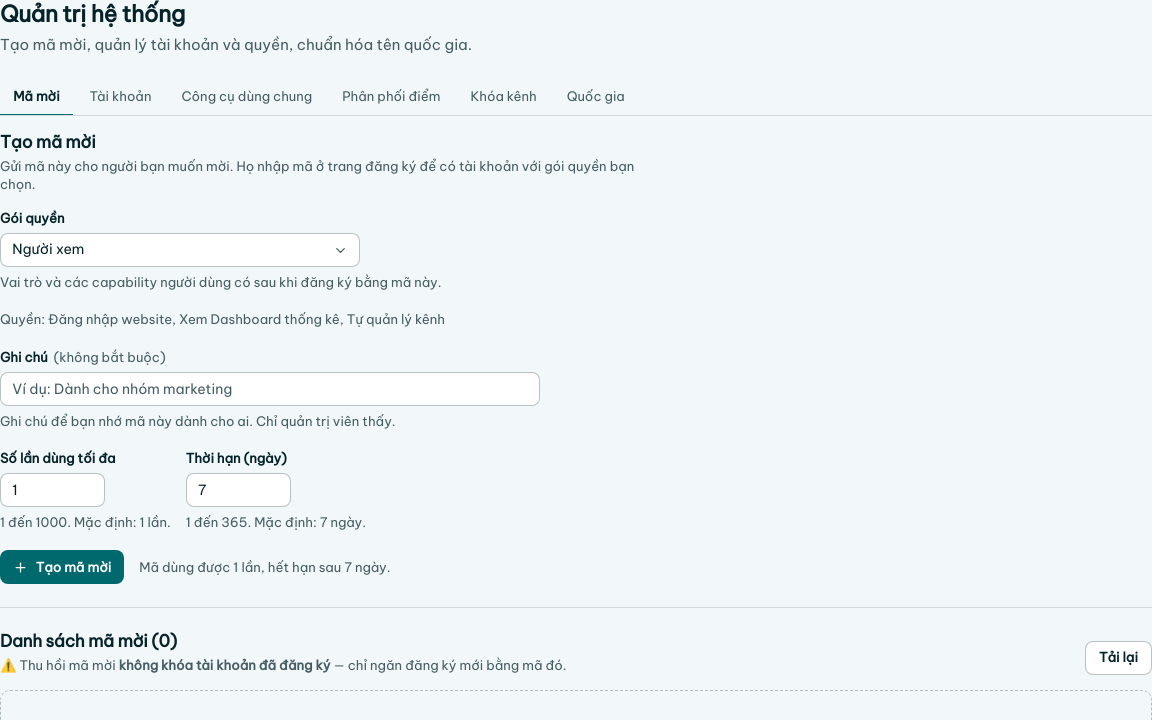
it: AdminPage — xác nhận trước khi khóa/xóa › khóa: hộp xác nhận nêu hậu quả; Hủy thì không gọi API; Xác nhận thì PATCH
The width and height of the screenshot is (1152, 720).
What coordinates should you click on to do the following:
click the tab "Tài khoản"
I would click on:
 (120, 97)
Its box is x1=76 y1=78 x2=164 y2=116.
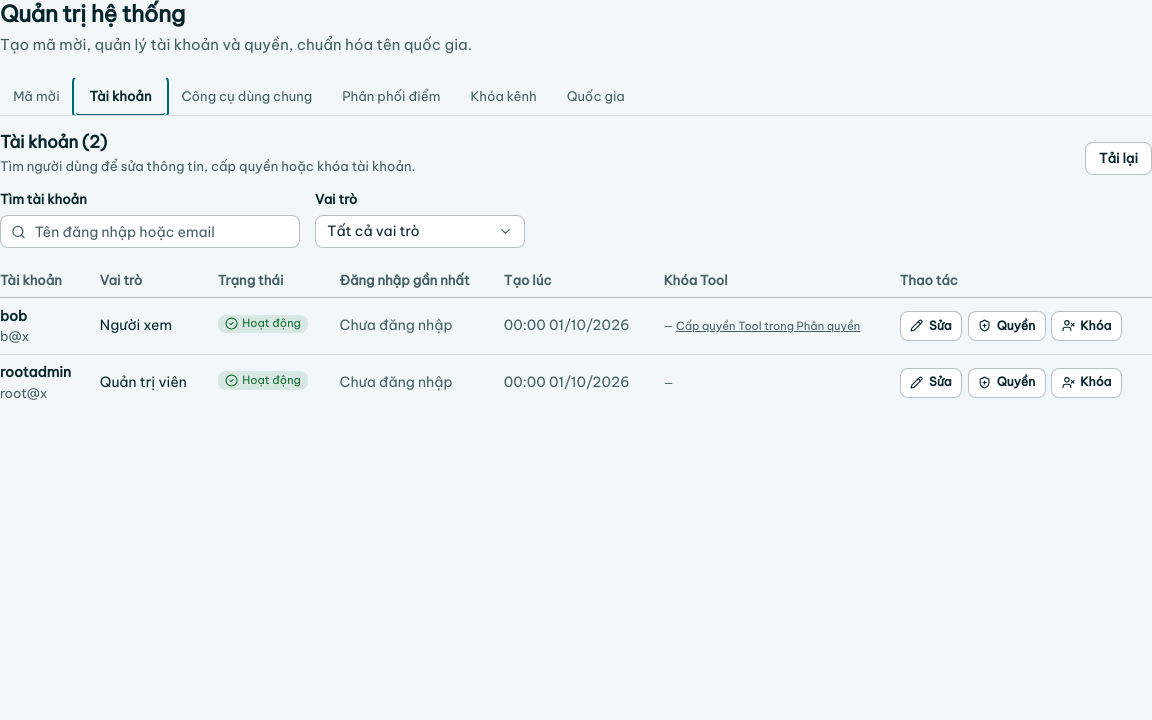
Now the text "bob" is shown, box x1=0 y1=307 x2=27 y2=325
What coordinates should you click on to do the following:
click the button with aria-label "Khóa bob"
I would click on:
 (1086, 326)
Its box is x1=1051 y1=311 x2=1122 y2=341.
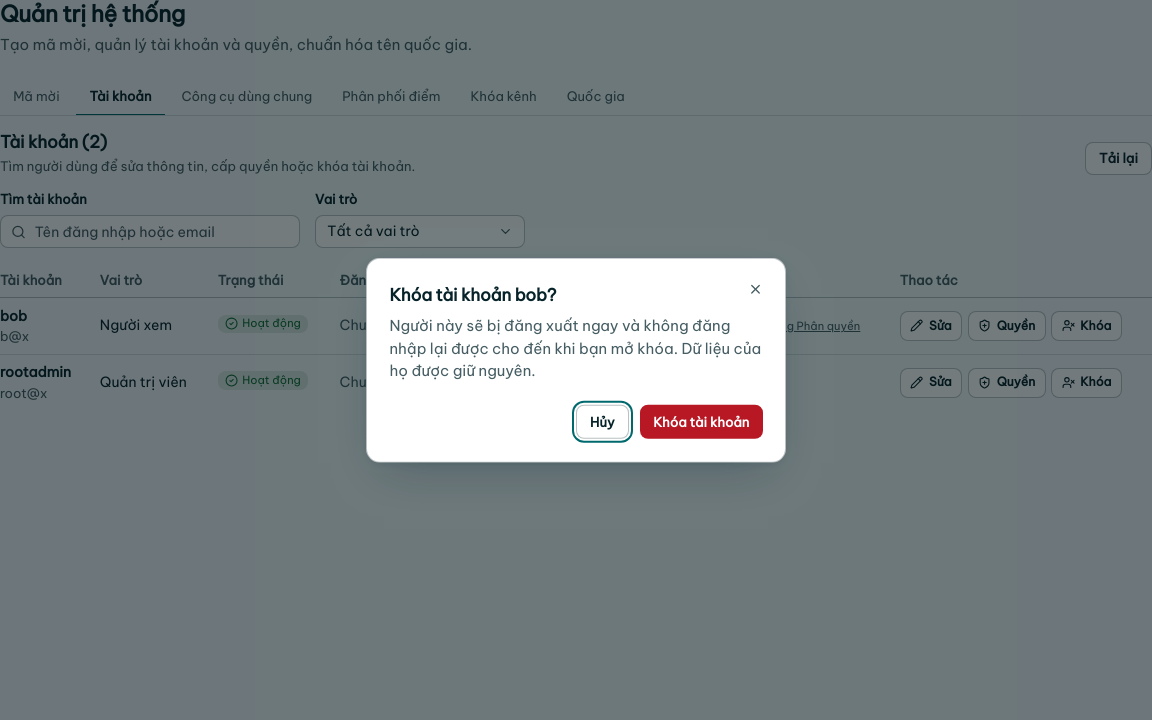
Now the text "Người này sẽ bị đăng xuất ngay" is shown, box x1=390 y1=316 x2=761 y2=380
What coordinates should you click on to do the following:
click the button "Hủy"
I would click on:
 (602, 422)
Its box is x1=576 y1=405 x2=629 y2=439.
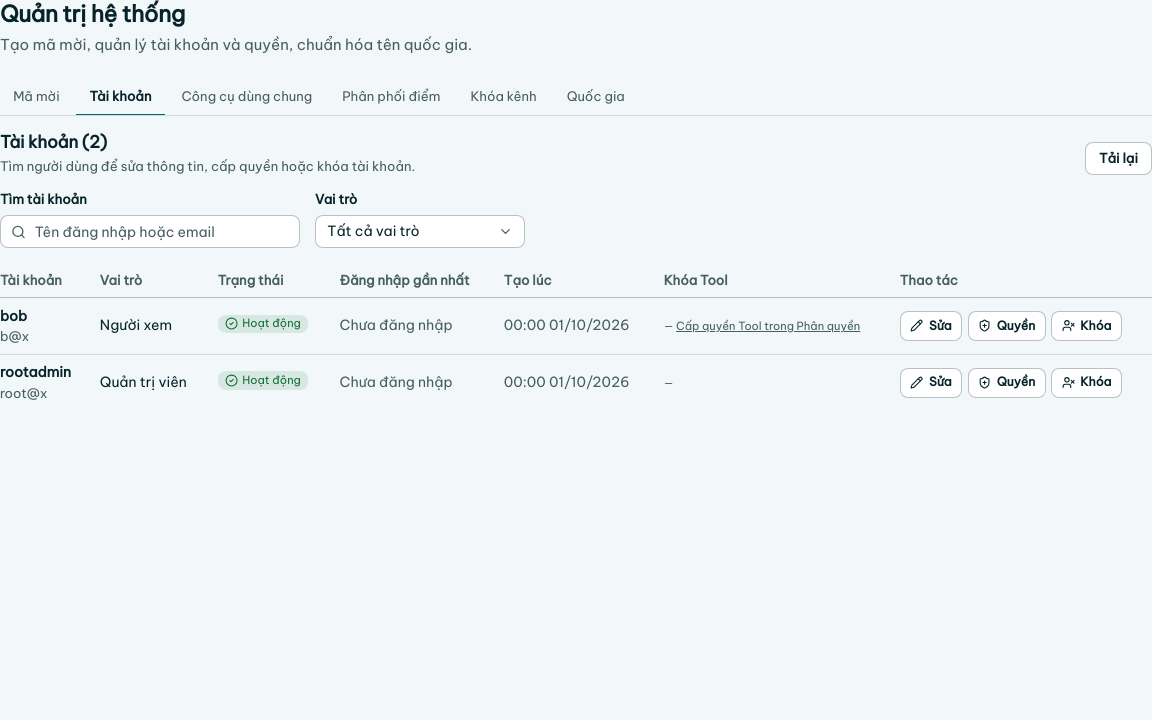
Now the dialog is gone
What coordinates should you click on to do the following:
click the button with aria-label "Khóa bob"
I would click on:
 (1086, 326)
Its box is x1=1051 y1=311 x2=1122 y2=341.
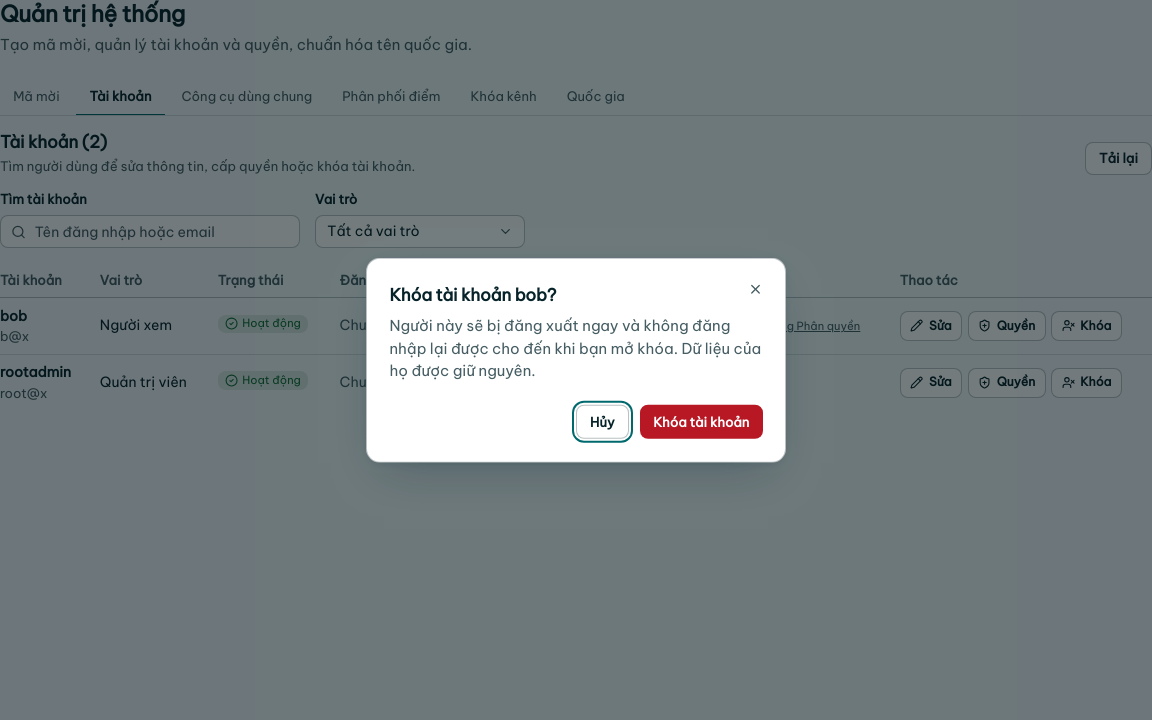
What coordinates should you click on to do the following:
click the button "Khóa tài khoản"
I would click on:
 (701, 422)
Its box is x1=640 y1=405 x2=762 y2=439.
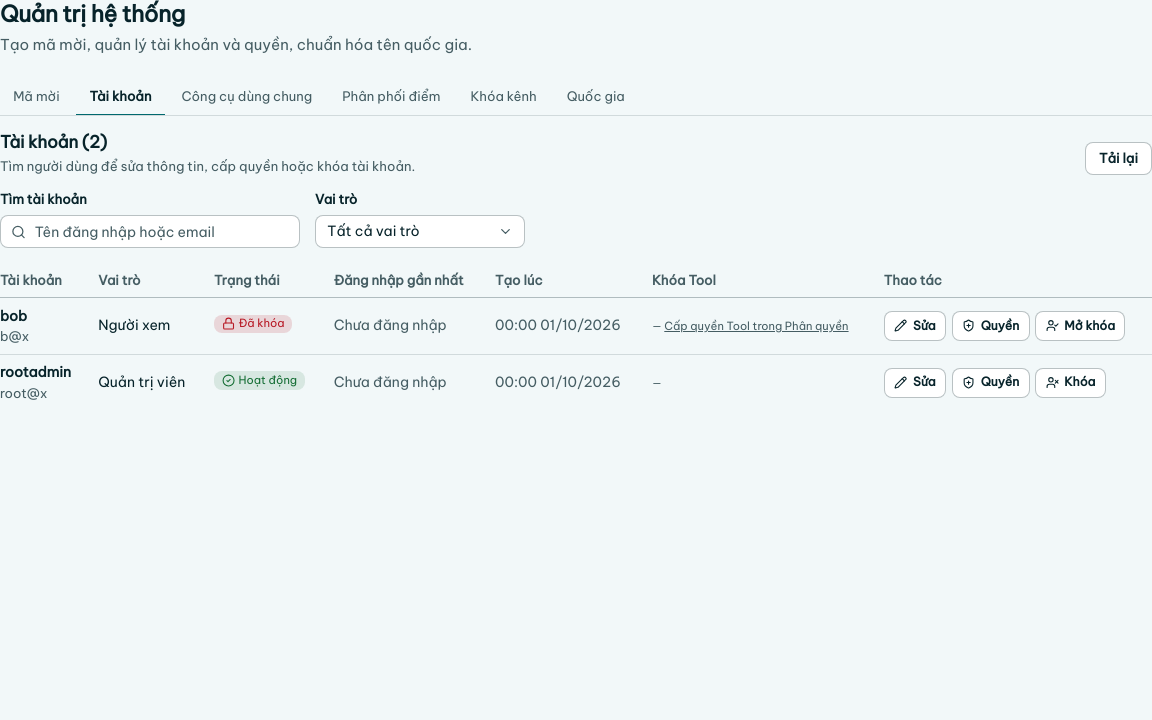
Now the button with aria-label "Mở khóa bob" is shown, box x1=1035 y1=311 x2=1125 y2=341
